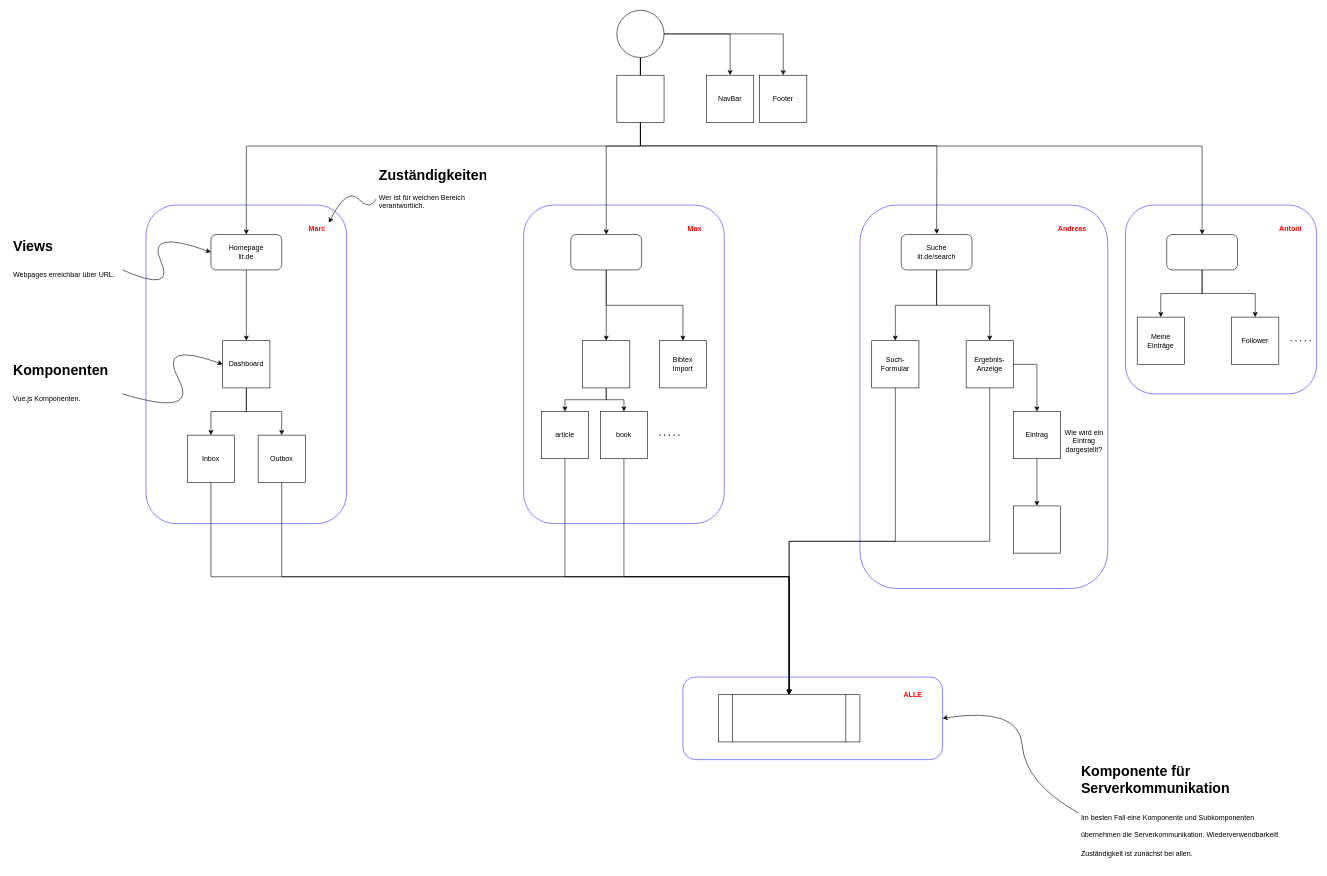
This 1327x876 diagram has some shape labels left out. Here are the shapes that lost their labels. From the top down, the centre of each, then its label:
the point at 640,34: App.vue
the point at 640,98: SignIn (Auth.)
the point at 606,252: Neuer Eintrag lit.de/new-entry
the point at 1202,252: Profil lit.de/profile
the point at 606,364: Typ
the point at 1037,529: Bibtex Export
the point at 789,718: Serverkommunikation
